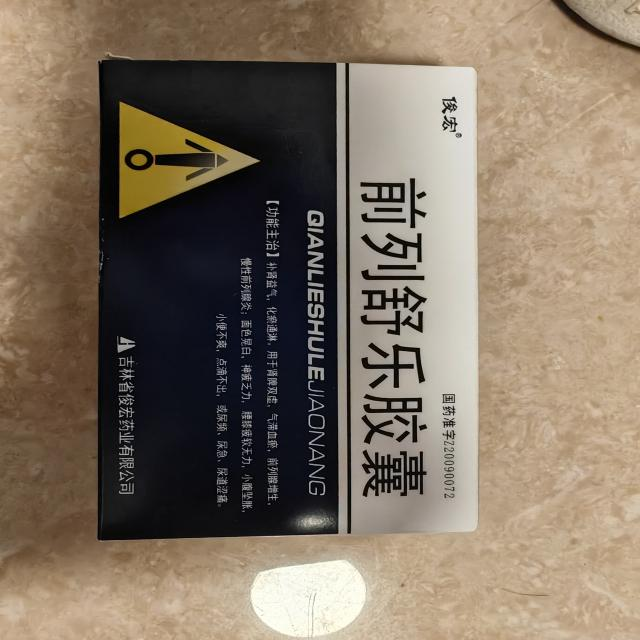box: (79, 50, 492, 548)
